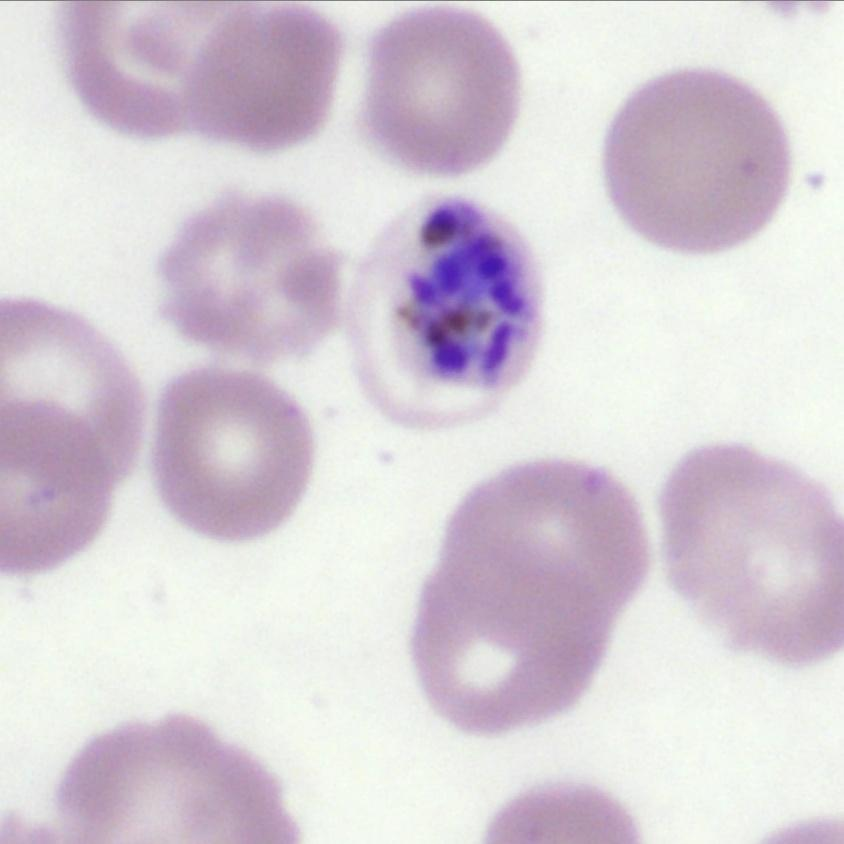Infected: (345, 194, 550, 423)
Uninfected: (408, 535, 607, 735), (662, 444, 844, 659), (437, 457, 642, 634), (600, 67, 790, 253), (155, 185, 347, 362), (57, 710, 303, 844), (360, 8, 530, 176), (150, 370, 316, 541), (0, 299, 143, 485), (60, 0, 239, 138), (185, 0, 340, 145), (0, 402, 110, 578)
